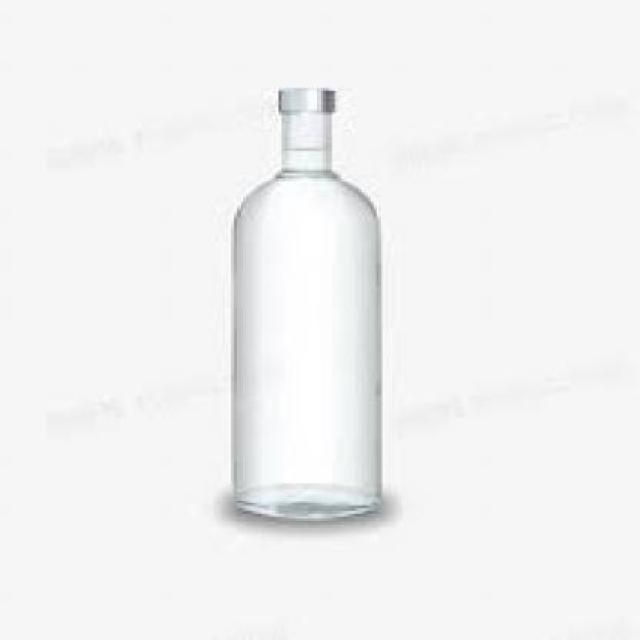kaca: (229, 108, 380, 520)
